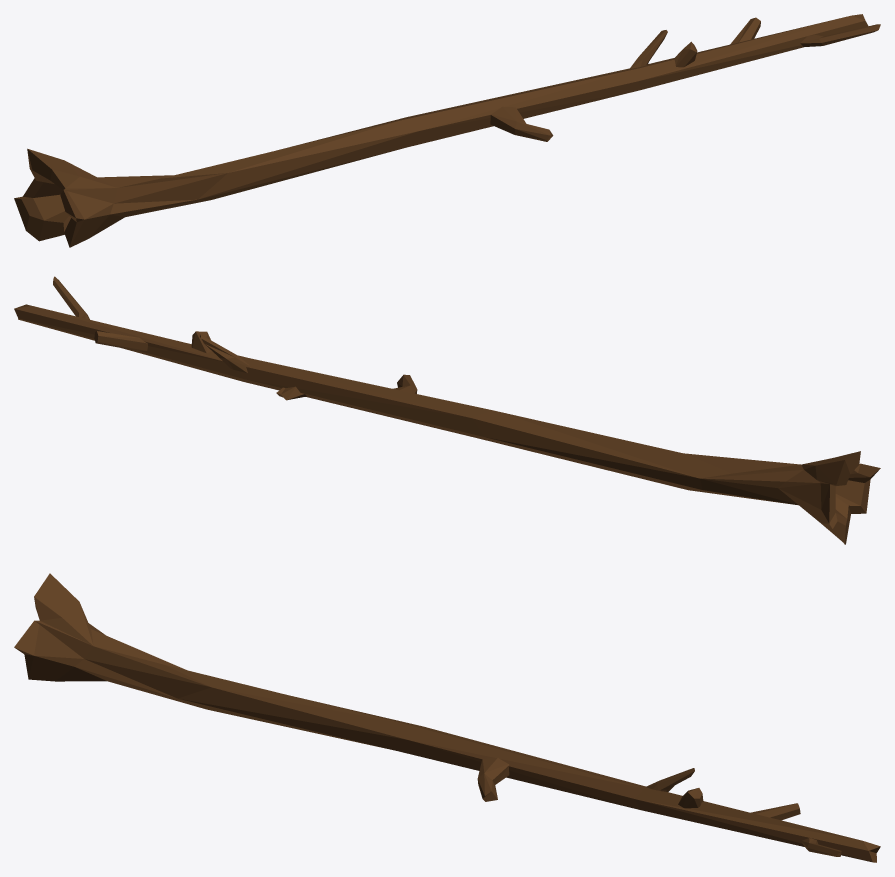
Rendered from tree-beech-fallen-a.gltf.
3 views of the same model, one above another, from view 1: azimuth 30°, elevation 25°; view 2: azimuth 150°, elevation 25°; view 3: azimuth 330°, elevation 25° (orthographic).
Visible parts, largest first — view 1: tree-beech-fallen-a; view 2: tree-beech-fallen-a; view 3: tree-beech-fallen-a.
Boxes of the visible parts, x1,y1,x2,y2 form: tree-beech-fallen-a: (14, 14, 880, 247); tree-beech-fallen-a: (14, 276, 880, 544); tree-beech-fallen-a: (14, 573, 880, 862).
Bounding box in the file's own units: 0.0882 × 0.00912 × 0.0113.
